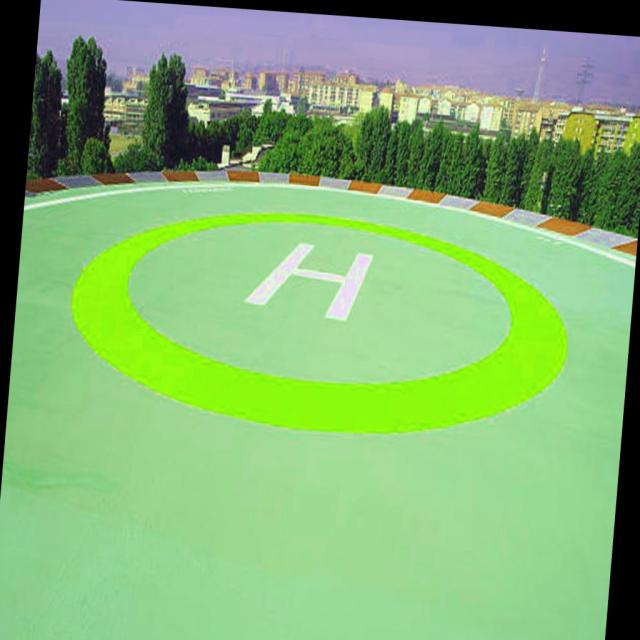helipad: (68, 205, 570, 438)
